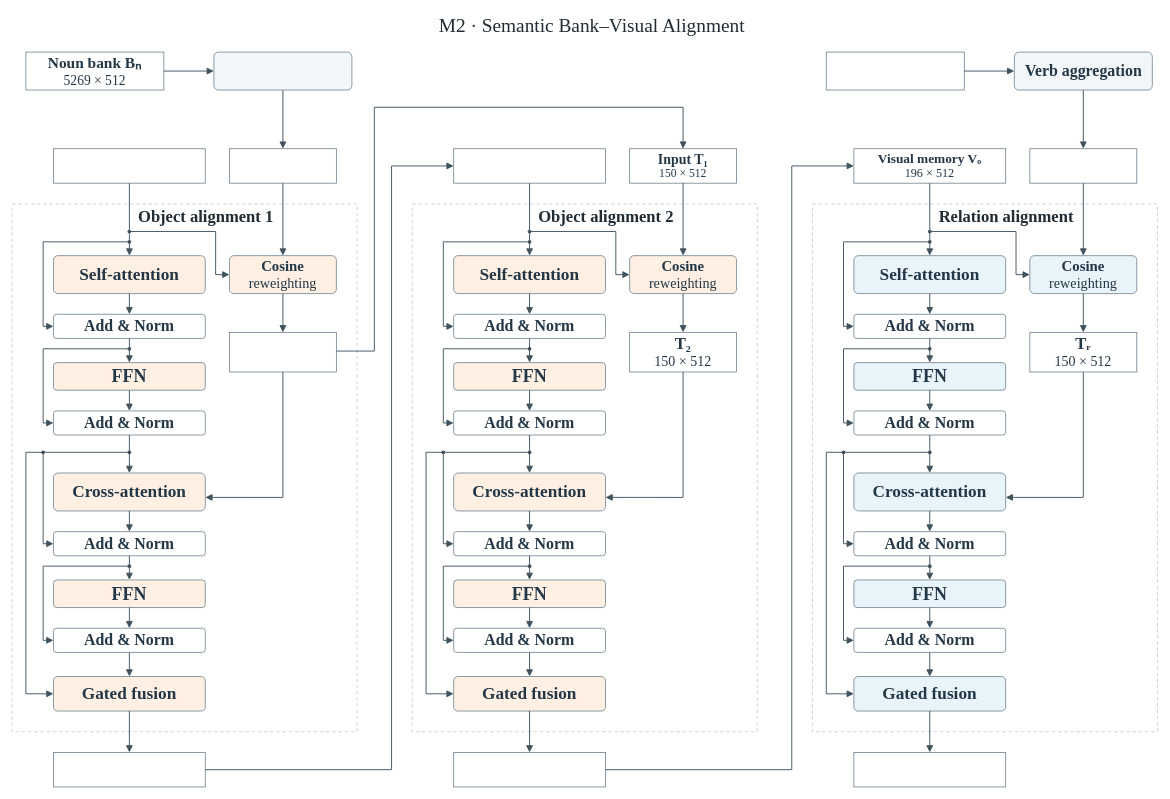
Some shapes in this 1170 by 799 pixel diagram are drawn without their labels. Here are the shapes that lost their labels. From the top down, the box of each, then its label:
(213, 51, 352, 90): Noun aggregation
(826, 51, 964, 90): Verb bank Bᵥ 1594 × 512
(53, 148, 205, 183): Visual memory V 196 × 512
(229, 148, 336, 183): Prototypes Pₙ 150 × 512
(453, 148, 606, 183): Visual memory V₁ 196 × 512
(1029, 148, 1137, 183): Prototypes Pᵥ 150 × 512
(229, 332, 336, 372): T₁ 150 × 512
(53, 752, 205, 787): V₁ 196 × 512
(453, 752, 606, 787): Object memory Vₒ 196 × 512
(853, 752, 1006, 787): Relation memory Vᵣ 196 × 512
